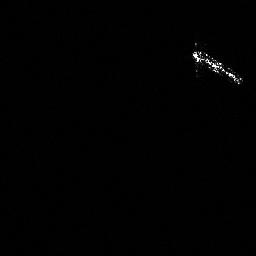ship: (188, 47, 246, 88)
